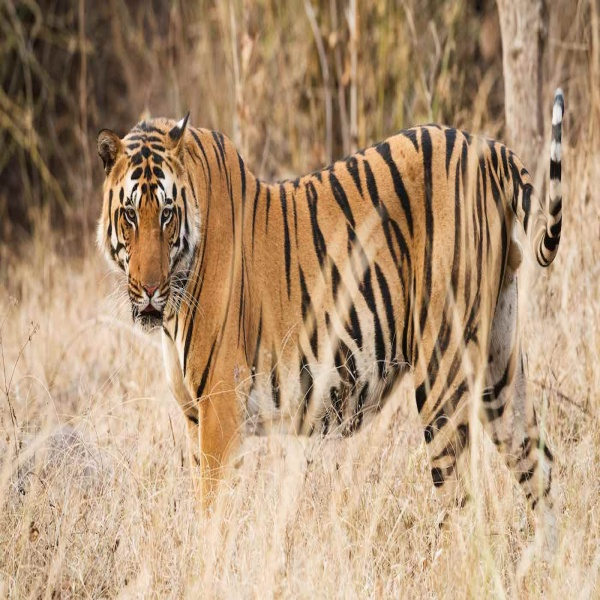Tiger: (95, 90, 577, 529)
